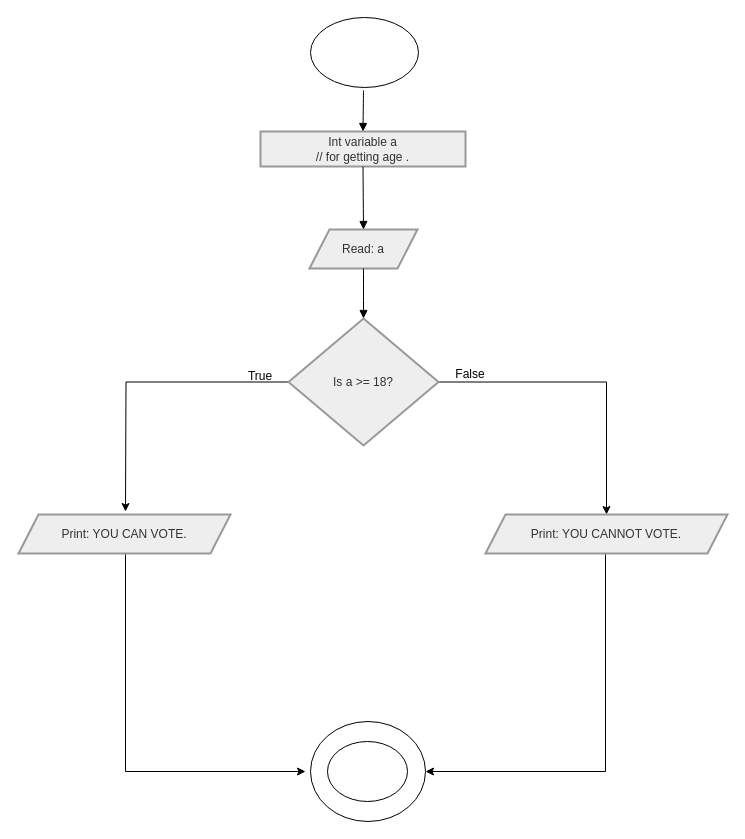
Image size: 745x839. Some labels were removed from this diagram. Here are the shapes that lost their labels. From the top down, the box of each, then its label:
(310, 16, 418, 88): start
(326, 740, 408, 802): End
